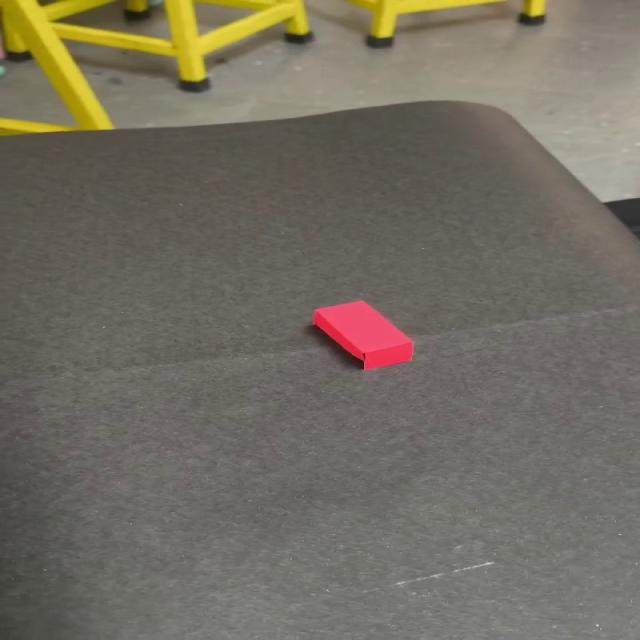red block: (310, 300, 414, 370)
